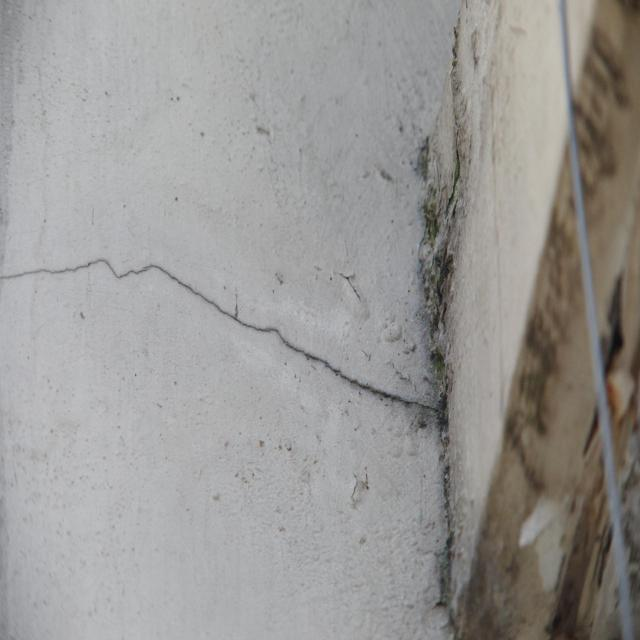SurfaceCrack: (0, 226, 610, 446)
